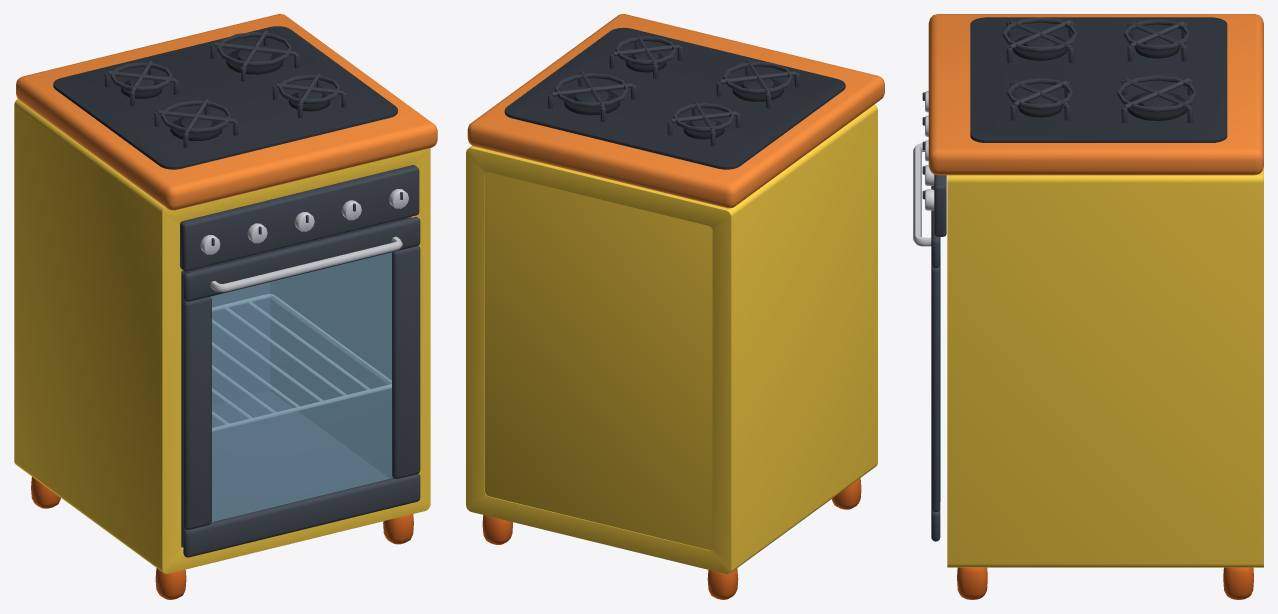
Rendered from fogao_modulo_moderna.glb.
3 views of the same model, side by side, from view 1: azimuth 30°, elevation 25°; view 2: azimuth 150°, elevation 25°; view 3: azimuth 270°, elevation 25° (orthographic). The views are drawn at different scales.
Visible parts, largest first — view 1: fogao_modulo_moderna, porta_forno; view 2: fogao_modulo_moderna; view 3: fogao_modulo_moderna, porta_forno.
Boxes of the visible parts, x1,y1,x2,y2 form: fogao_modulo_moderna: (14, 14, 437, 599); porta_forno: (183, 217, 420, 557); fogao_modulo_moderna: (466, 14, 884, 599); fogao_modulo_moderna: (922, 14, 1263, 599); porta_forno: (913, 143, 940, 541).
Size of the model in its own units: 0.598 by 0.939 by 0.627.
Materials: 2 (1 with a texture image).
